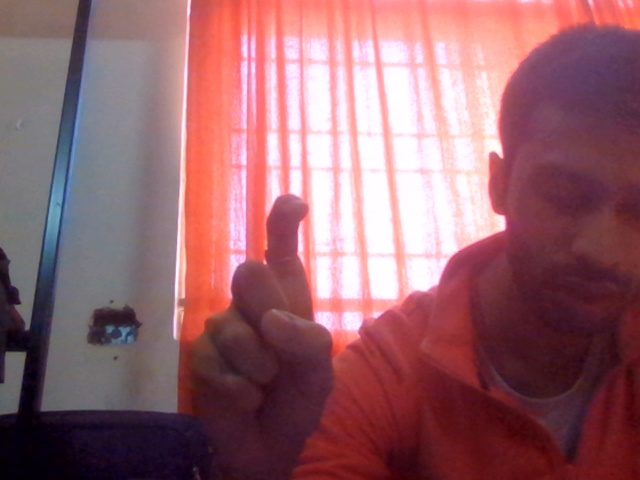X: (135, 169, 392, 480)
